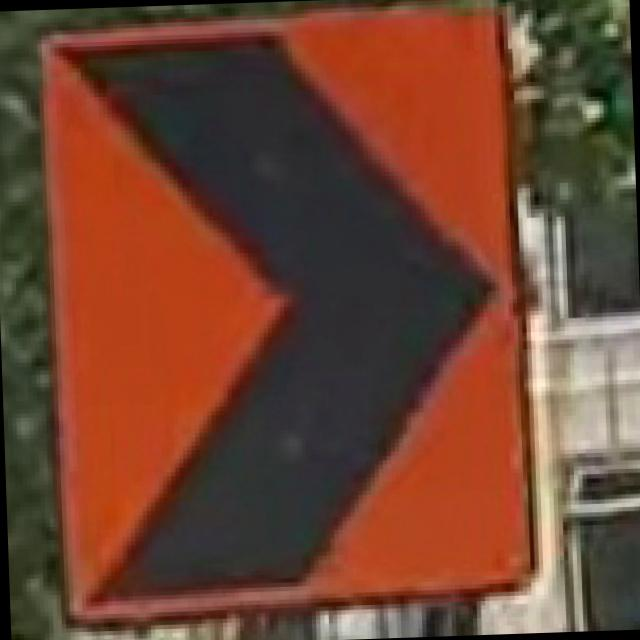curveright_sign: (31, 0, 544, 628)
